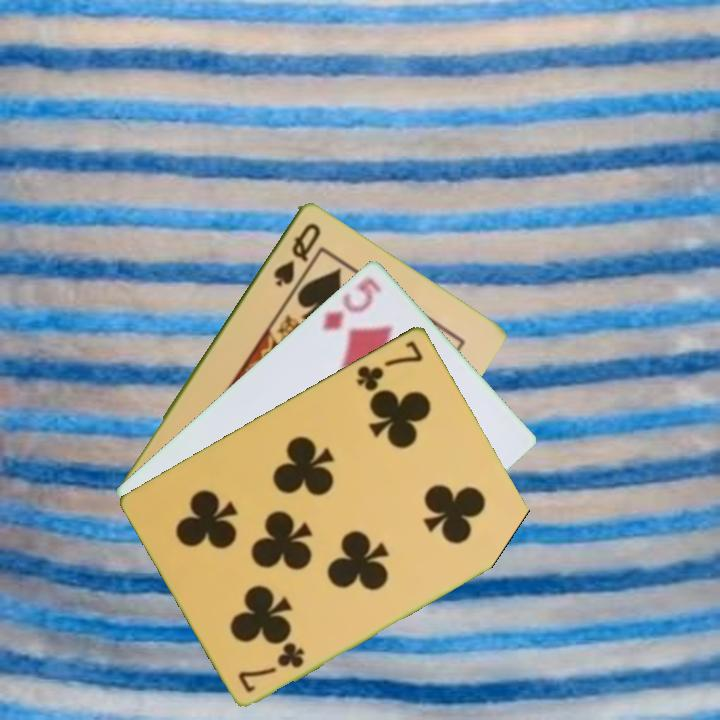5d: (318, 273, 384, 333)
7c: (352, 336, 427, 394), (234, 638, 308, 695)
Qs: (270, 218, 324, 290)
